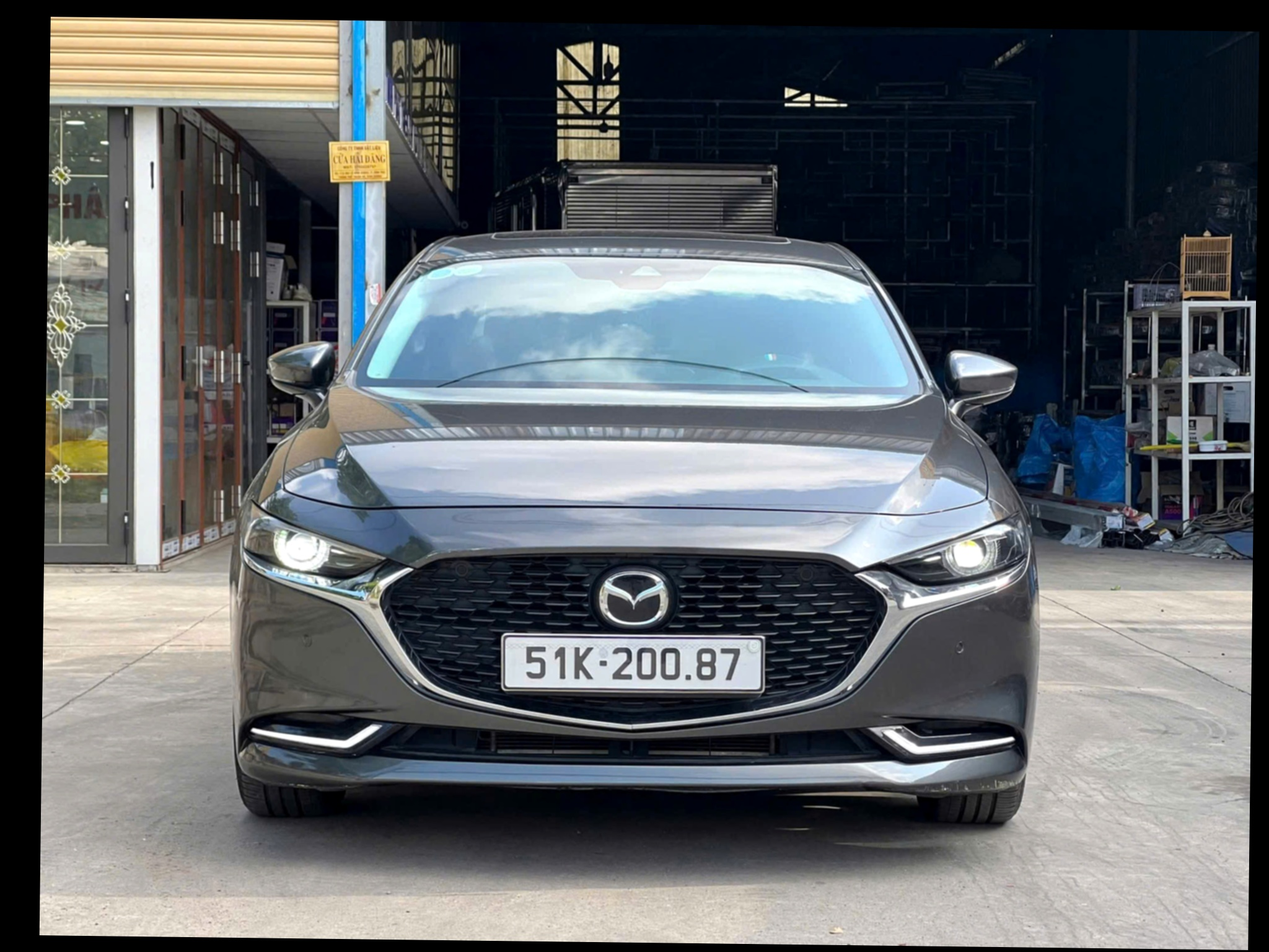Bien-so: (485, 613, 781, 695)
